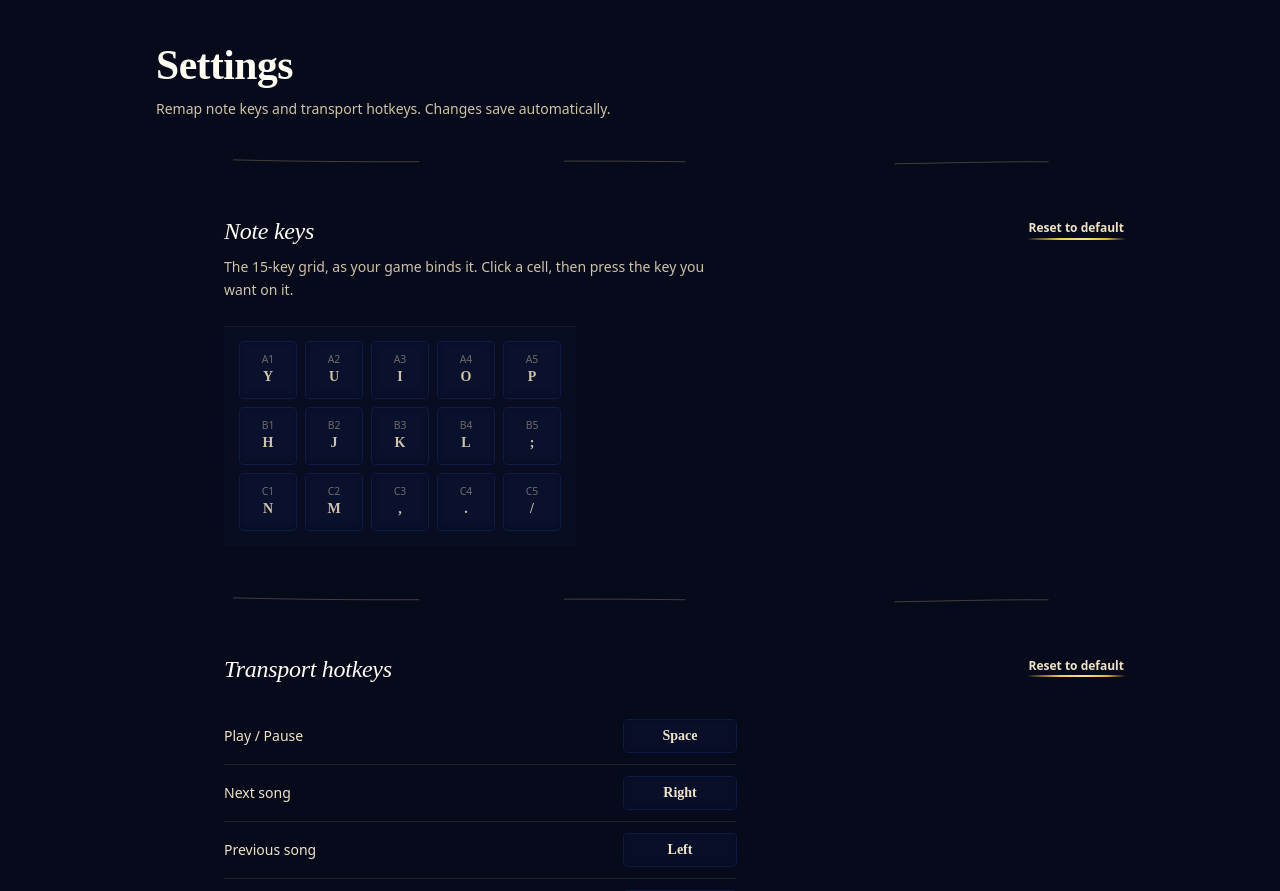
Settings › resets note keys to the default layout
This screenshot has width=1280, height=891.
Click the button named "Note key A1" at (268, 370), box [240,342,296,398]
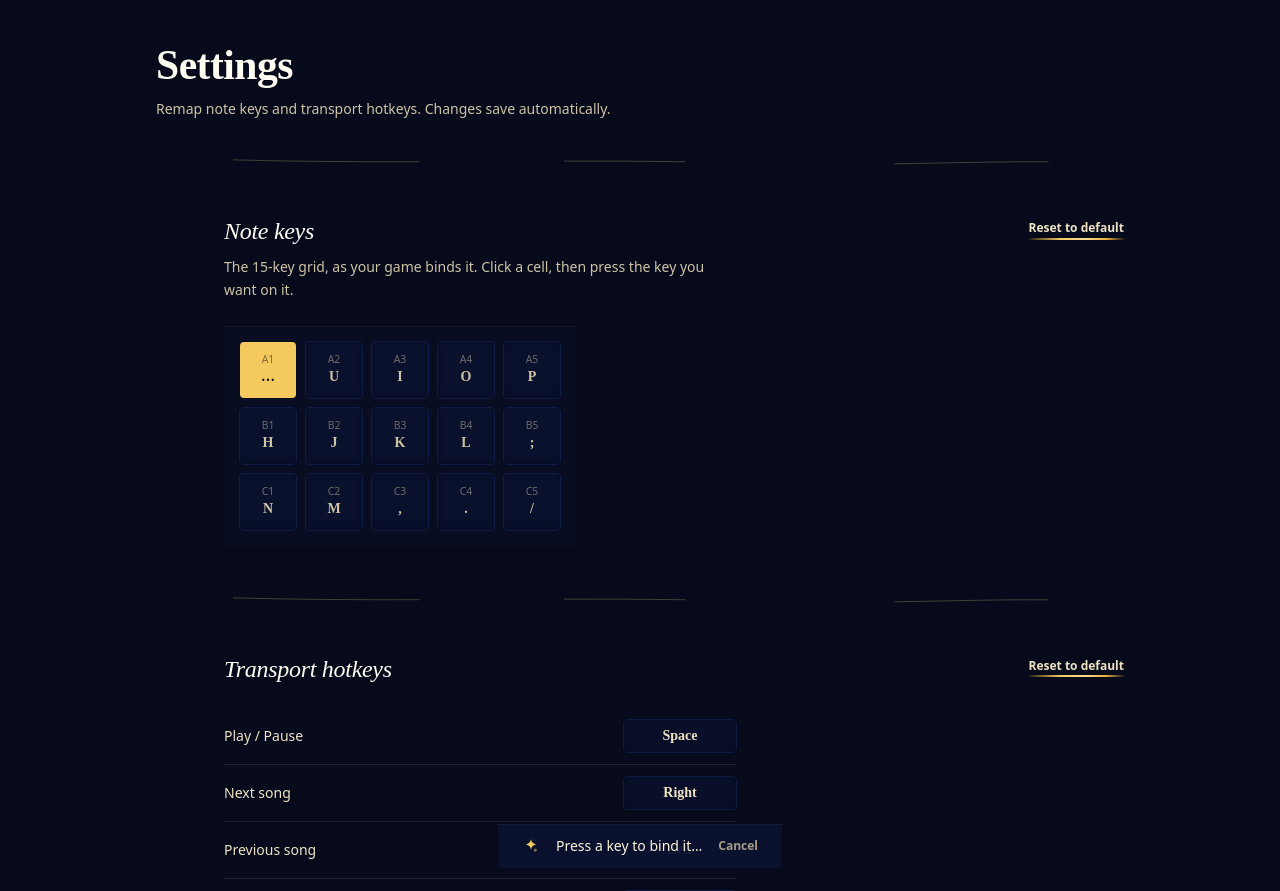
Press q
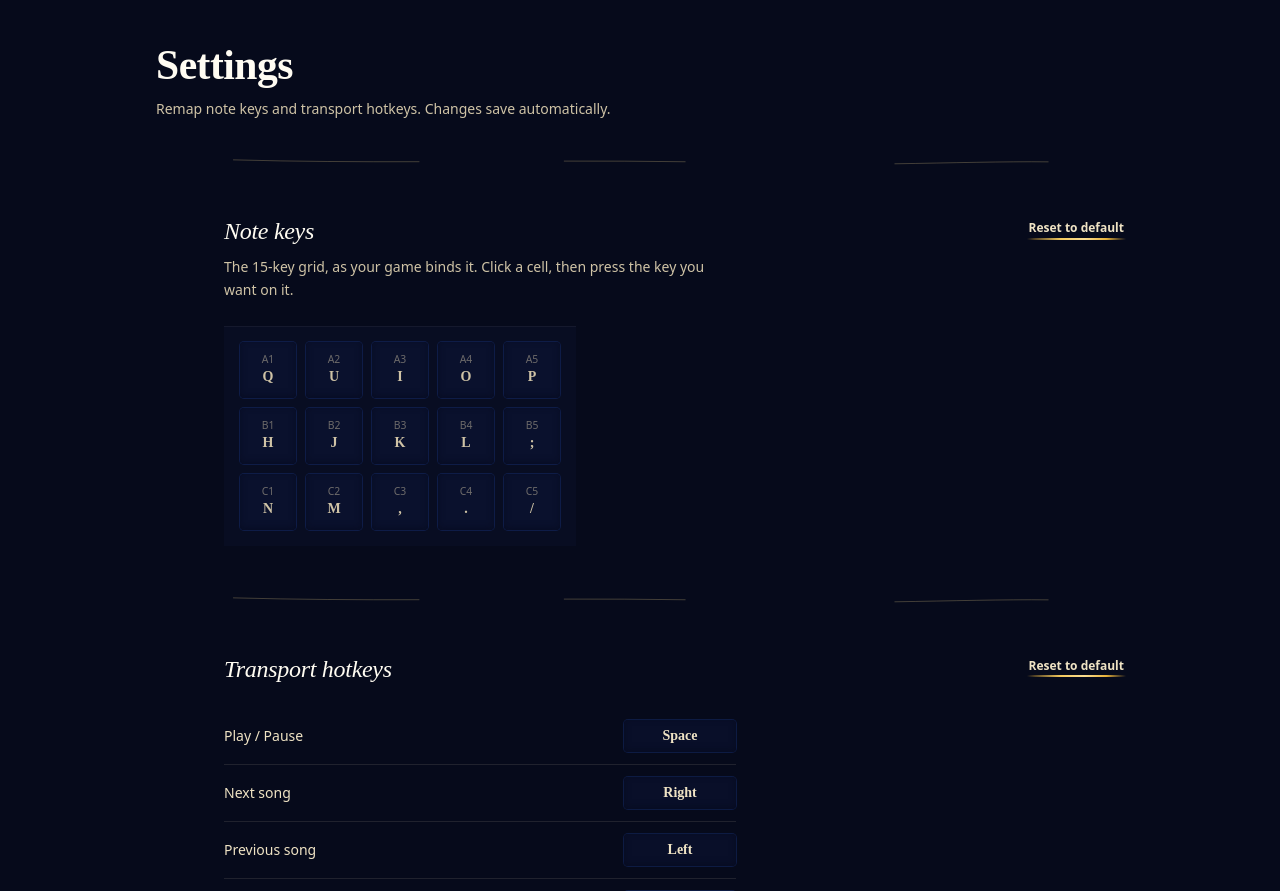
Check: the button named "Note key A1" shows "Q", box [240,342,296,398]
Click the 1st button "Reset to default" at (1076, 228), box [1028,220,1124,236]
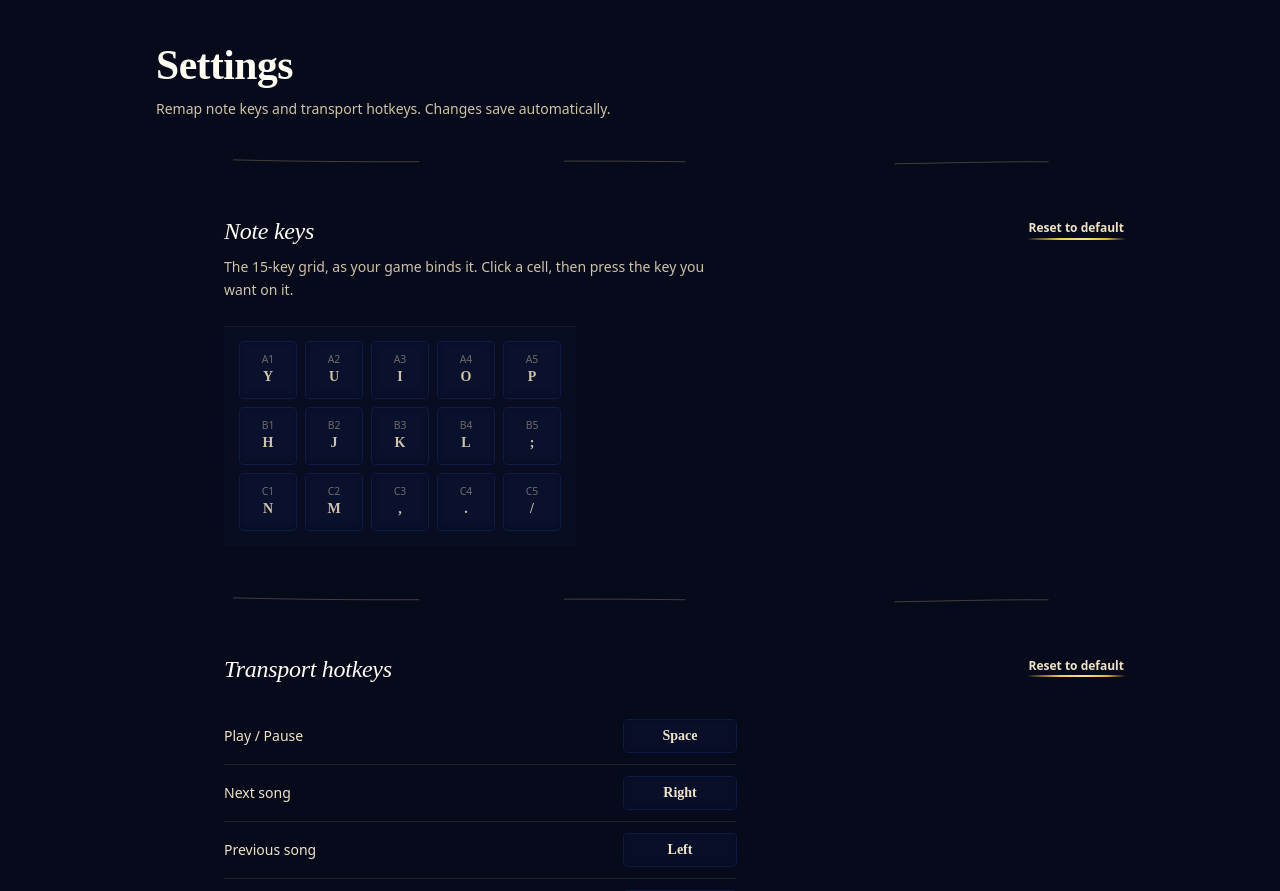
Check: the button named "Note key A1" shows "Y", box [240,342,296,398]
